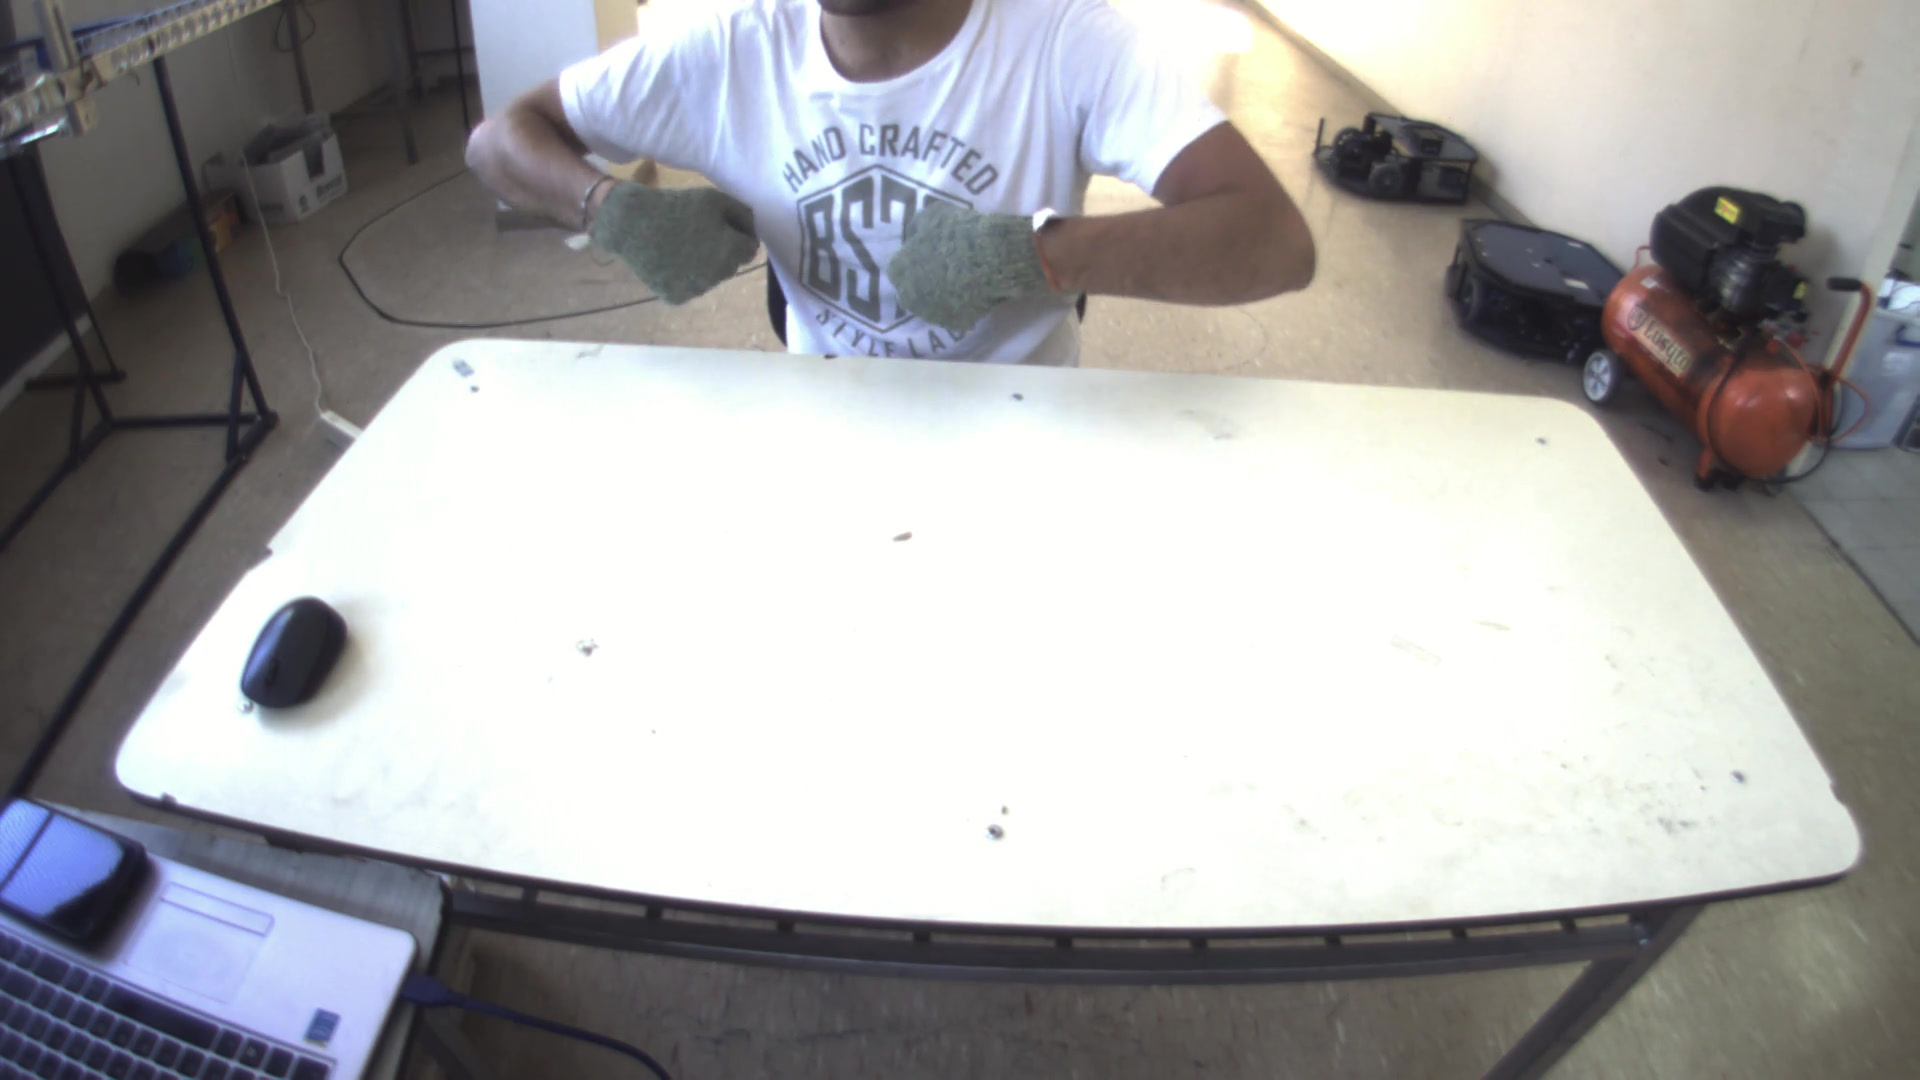hand: (574, 153, 756, 301), (881, 194, 1044, 315)
